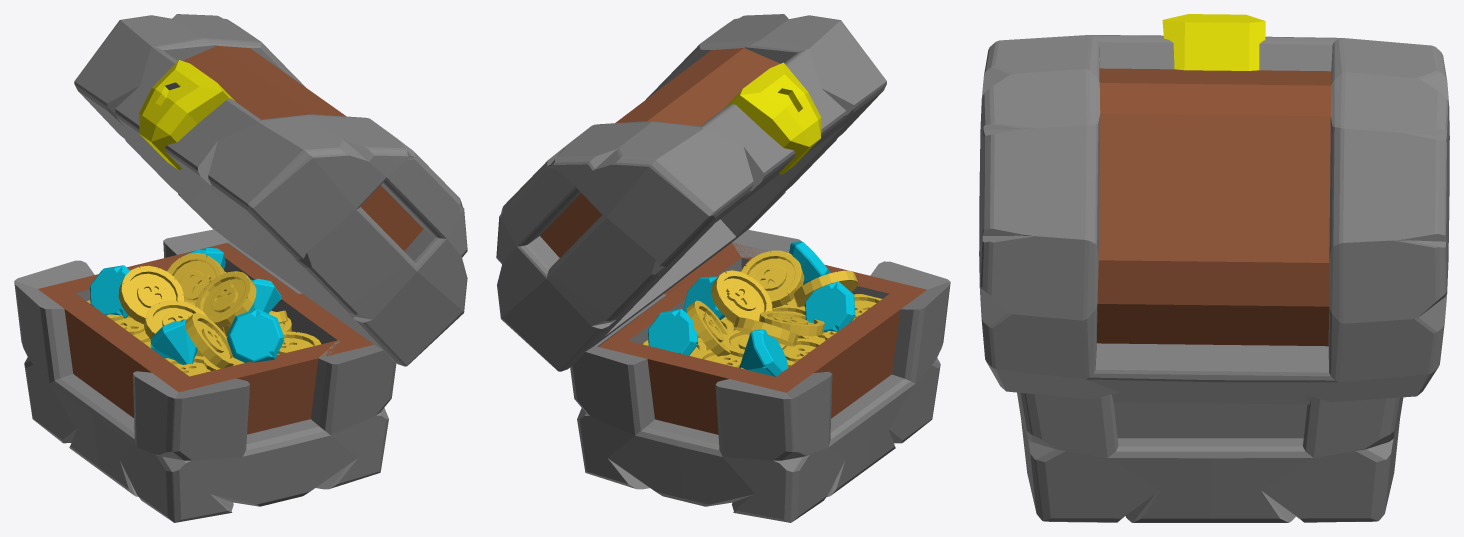
File: Treasure.fbx
3 renders of one model, left to right at view 1: azimuth 30°, elevation 25°; view 2: azimuth 150°, elevation 25°; view 3: azimuth 270°, elevation 25°, orthographic. The views are drawn at different scales.
Visible parts, largest first — view 1: Cube.044, Cylinder.008, Cylinder.009; view 2: Cube.044, Cylinder.008, Cylinder.009; view 3: Cube.044.
Boxes of the visible parts, <box> form: Cube.044: <box>14,14,467,522</box>; Cylinder.008: <box>87,253,320,376</box>; Cylinder.009: <box>90,248,284,364</box>; Cube.044: <box>496,14,950,522</box>; Cylinder.008: <box>643,250,881,369</box>; Cylinder.009: <box>648,241,855,376</box>; Cube.044: <box>979,14,1449,522</box>.
Size of the model in its own units: 122 by 150 by 145.
